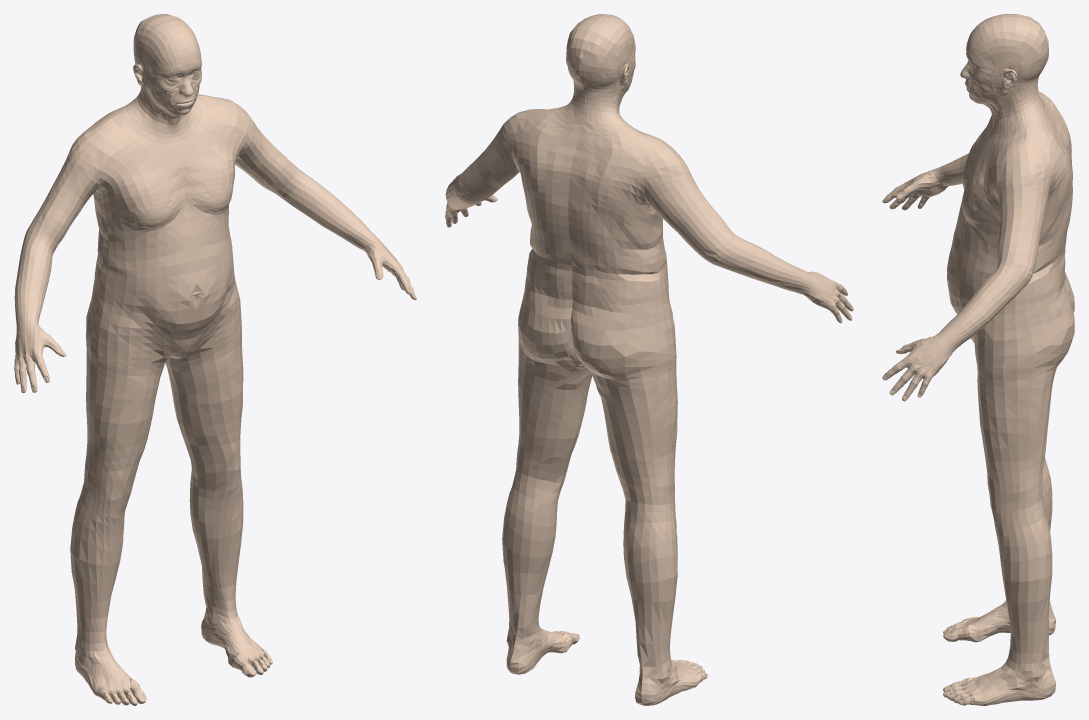
Rendered from male-older-max-toned.glb.
The picture shows the model from 3 angles, left to right: view 1: azimuth 30°, elevation 25°; view 2: azimuth 150°, elevation 25°; view 3: azimuth 270°, elevation 25°; orthographic projection.
Parts seen in each view (by area): view 1: world; view 2: world; view 3: world.
Part boxes in pixels (x1,y1,x2,y2): world: [14, 14, 416, 705]; world: [445, 14, 853, 705]; world: [882, 14, 1074, 705].
Bounding box in the file's own units: 1.22 × 1.93 × 0.5167.
